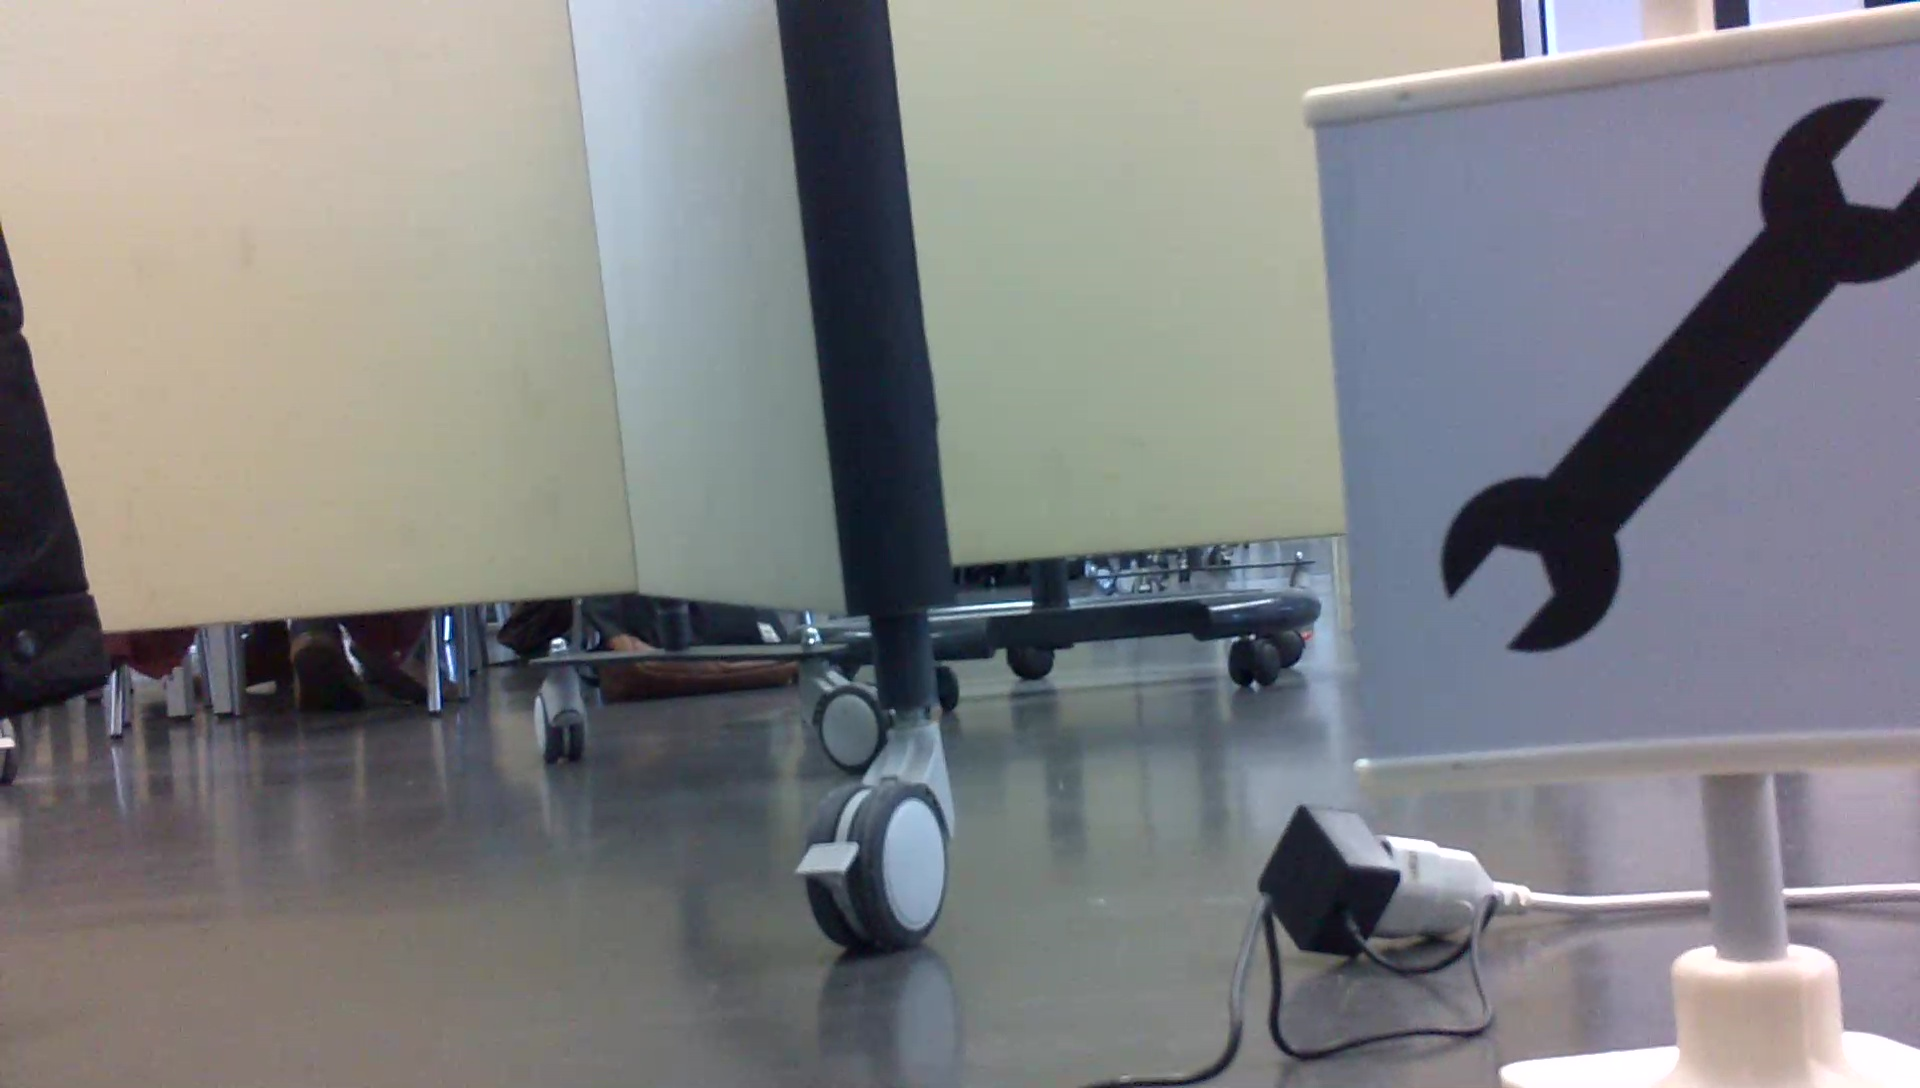wrench: (1429, 88, 1920, 662)
